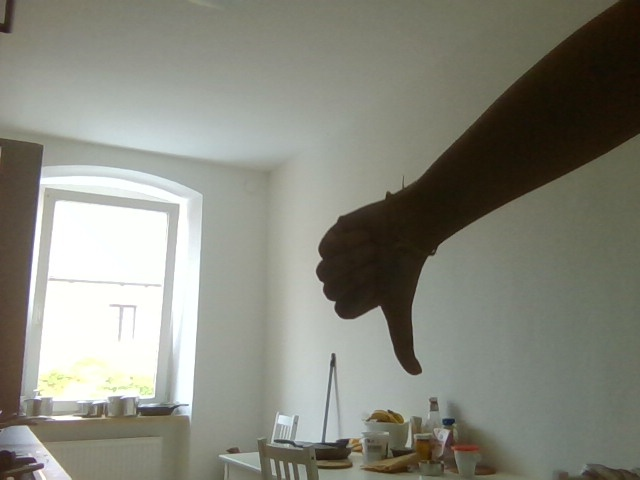thumbs_down: (293, 181, 454, 382)
